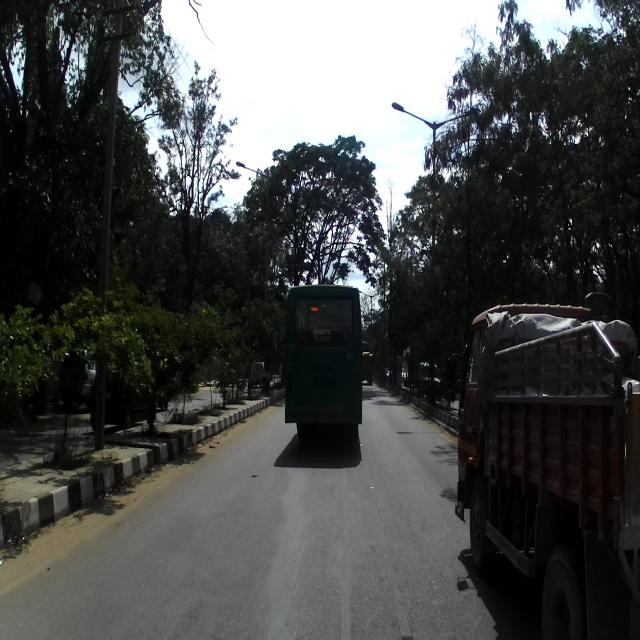bus: (284, 283, 365, 442)
car: (90, 358, 158, 430)
truck: (447, 288, 639, 639)
